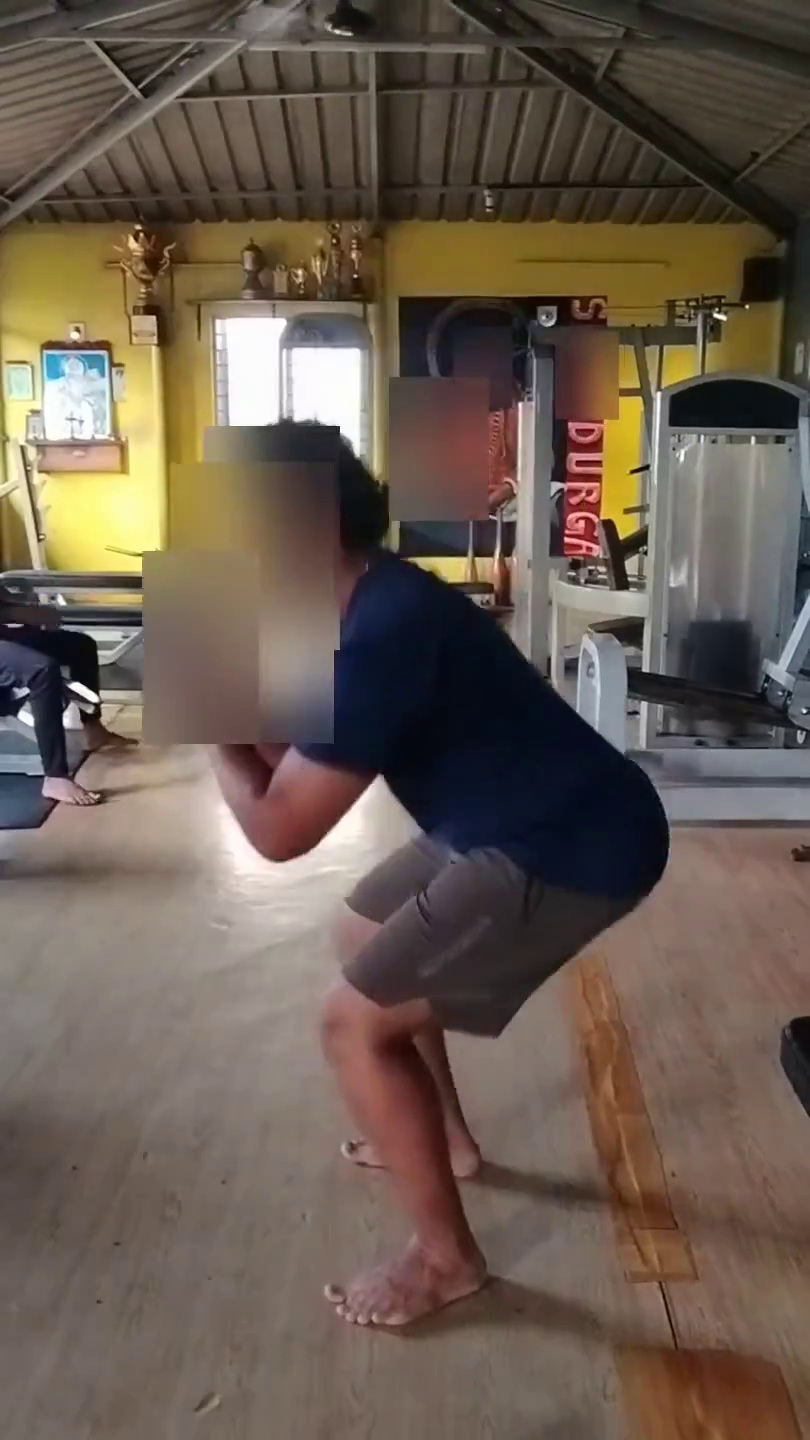squat: (216, 488, 644, 1379)
